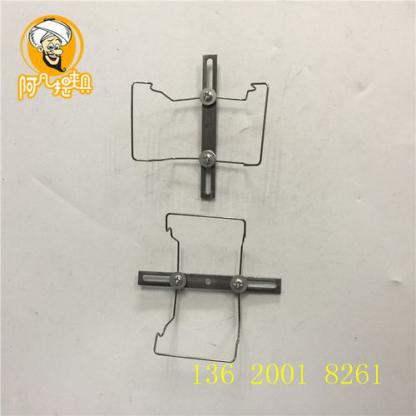FOD: (127, 74, 272, 166)
